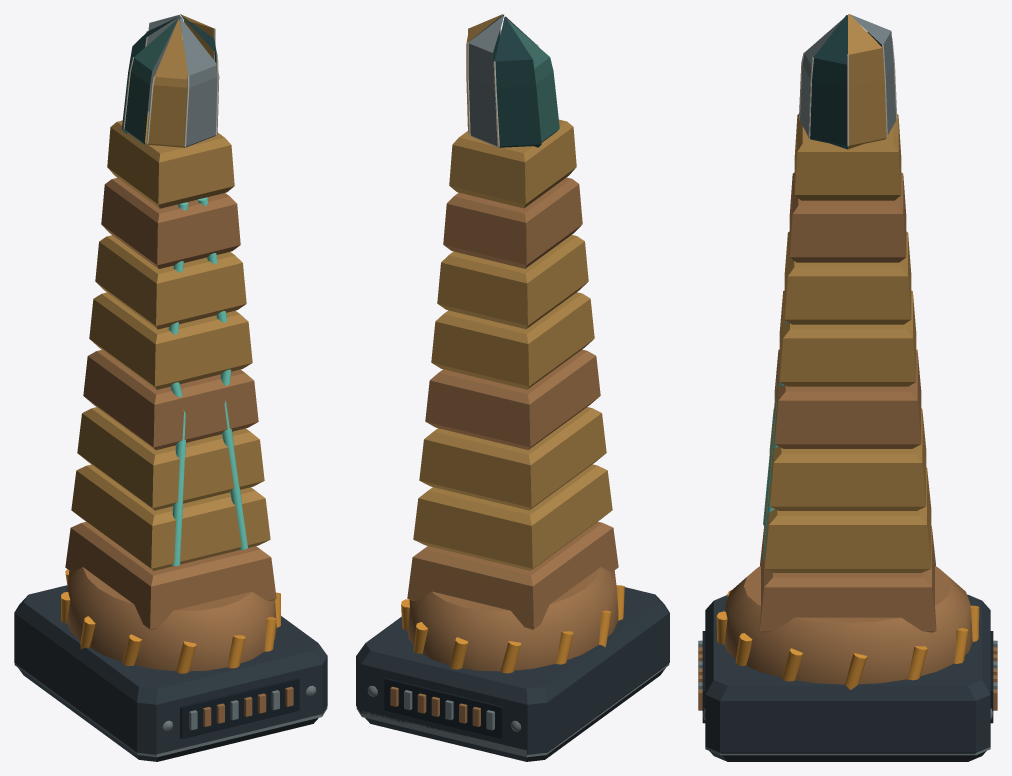
The model's file is tower_kharon.glb.
The picture shows the model from 3 angles, left to right: view 1: azimuth 30°, elevation 25°; view 2: azimuth 150°, elevation 25°; view 3: azimuth 270°, elevation 25°; orthographic projection. The views are drawn at different scales.
Visible parts, largest first — view 1: tower_kharon; view 2: tower_kharon; view 3: tower_kharon.
Part boxes in pixels (<box>): tower_kharon: <box>14,14,327,761</box>; tower_kharon: <box>356,14,669,761</box>; tower_kharon: <box>698,14,997,761</box>.
Size of the model in its own units: 3.2 by 10.88 by 4.17.
